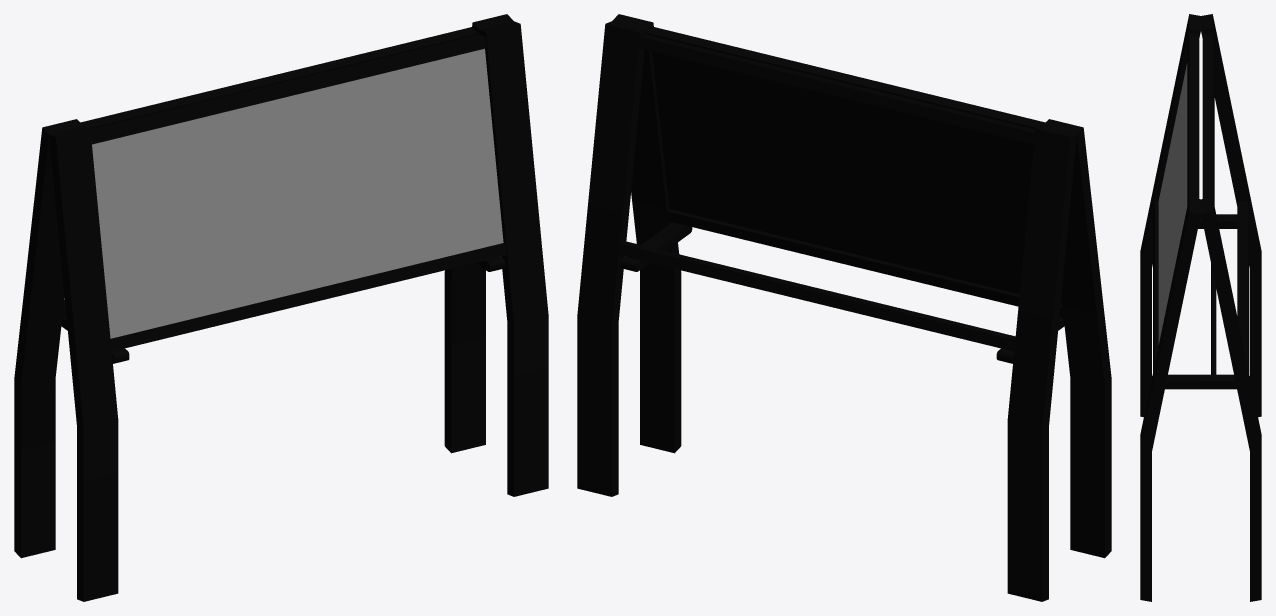
Rendered from SignBoard.fbx.
The picture shows the model from 3 angles, left to right: view 1: azimuth 30°, elevation 25°; view 2: azimuth 150°, elevation 25°; view 3: azimuth 270°, elevation 25°; orthographic projection. The views are drawn at different scales.
Visible parts, largest first — view 1: Blackboard; view 2: Blackboard; view 3: Blackboard.
Boxes of the visible parts, box(x1,y1,x2,y2) form: Blackboard: box(14, 14, 548, 601); Blackboard: box(577, 14, 1111, 601); Blackboard: box(1140, 14, 1261, 601).
Size of the model in its own units: 160 by 147 by 41.36.
2 materials, 1 textured.
